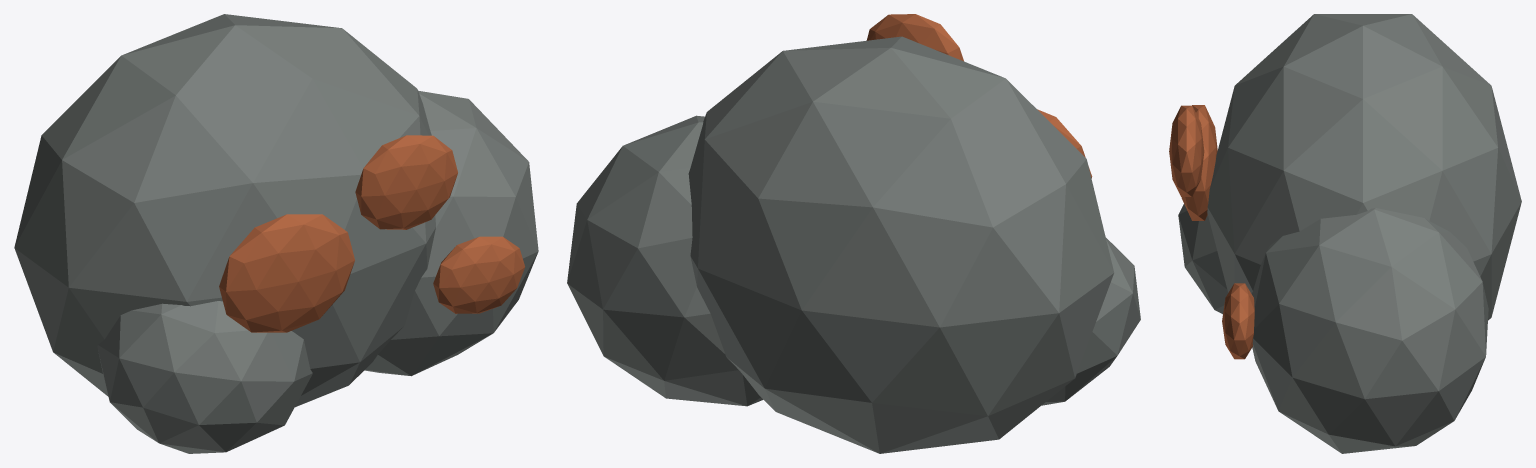
The model's file is economy_source_iron_ore_v01.glb.
The picture shows the model from 3 angles, left to right: view 1: azimuth 30°, elevation 25°; view 2: azimuth 150°, elevation 25°; view 3: azimuth 270°, elevation 25°; orthographic projection. The views are drawn at different scales.
Parts seen in each view (by area): view 1: GEO_IronRock_00, GEO_IronRock_02, GEO_IronRock_01, GEO_IronFacet_00, GEO_IronFacet_01, GEO_IronFacet_02; view 2: GEO_IronRock_00, GEO_IronRock_01, GEO_IronRock_02, GEO_IronFacet_01; view 3: GEO_IronRock_00, GEO_IronRock_01, GEO_IronRock_02, GEO_IronFacet_01, GEO_IronFacet_02, GEO_IronFacet_00.
Boxes of the visible parts, x1=… form: GEO_IronRock_00: x1=14, y1=14, x2=435, y2=407; GEO_IronRock_02: x1=97, y1=301, x2=312, y2=453; GEO_IronRock_01: x1=364, y1=90, x2=538, y2=376; GEO_IronFacet_00: x1=219, y1=214, x2=354, y2=332; GEO_IronFacet_01: x1=355, y1=135, x2=457, y2=229; GEO_IronFacet_02: x1=433, y1=236, x2=524, y2=313; GEO_IronRock_00: x1=688, y1=36, x2=1114, y2=453; GEO_IronRock_01: x1=567, y1=115, x2=763, y2=406; GEO_IronRock_02: x1=1042, y1=237, x2=1140, y2=405; GEO_IronFacet_01: x1=866, y1=14, x2=963, y2=61; GEO_IronRock_00: x1=1207, y1=14, x2=1521, y2=320; GEO_IronRock_01: x1=1251, y1=208, x2=1488, y2=453; GEO_IronRock_02: x1=1178, y1=204, x2=1227, y2=314; GEO_IronFacet_01: x1=1169, y1=105, x2=1204, y2=196; GEO_IronFacet_02: x1=1222, y1=283, x2=1254, y2=359; GEO_IronFacet_00: x1=1181, y1=105, x2=1217, y2=220.
Size of the model in its own units: 1.73 by 1.32 by 1.2.
